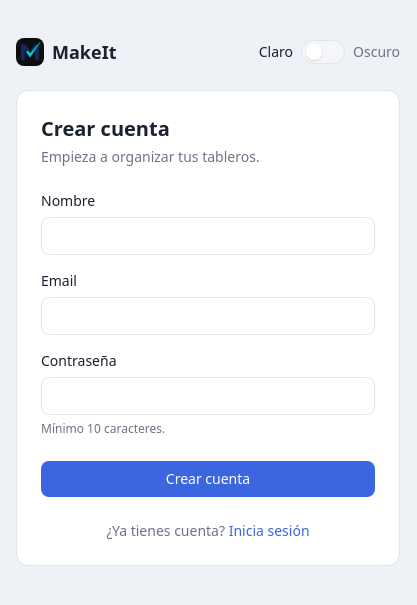
Scenario: RegisterPage › muestra errores de validación con datos inválidos y no envía la petición
This screenshot has width=417, height=605.
Step 1. Type "no-es-un-email" into the field labelled "Email" → (208, 316), box [41, 297, 375, 335]
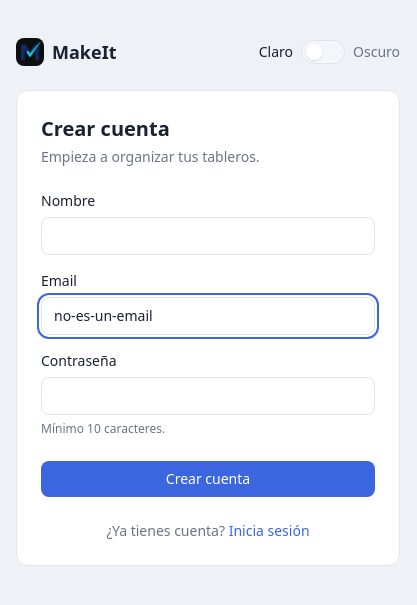
Step 2. Type "corta" into the password field labelled "Contraseña" → (208, 396), box [41, 377, 375, 415]
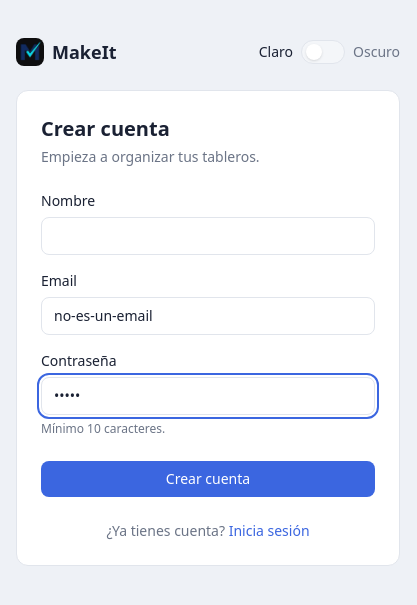
Step 3. Click the button "Crear cuenta" → (208, 479), box [41, 461, 375, 497]
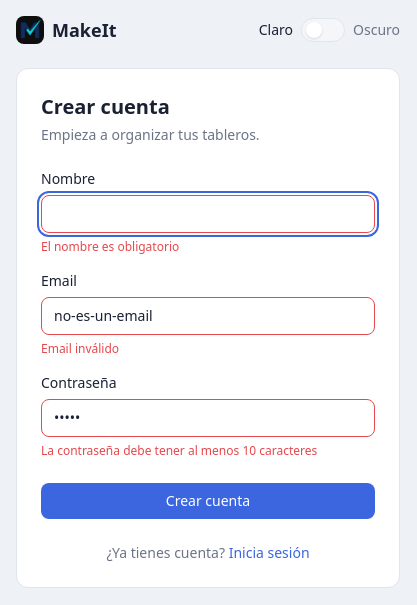
Result: the text "El nombre es obligatorio" is shown at [41, 238, 179, 255]
Result: the text "Email inválido" is shown at [41, 340, 119, 357]
Result: the text "La contraseña debe tener al menos 10 caracteres" is shown at [41, 442, 317, 459]
